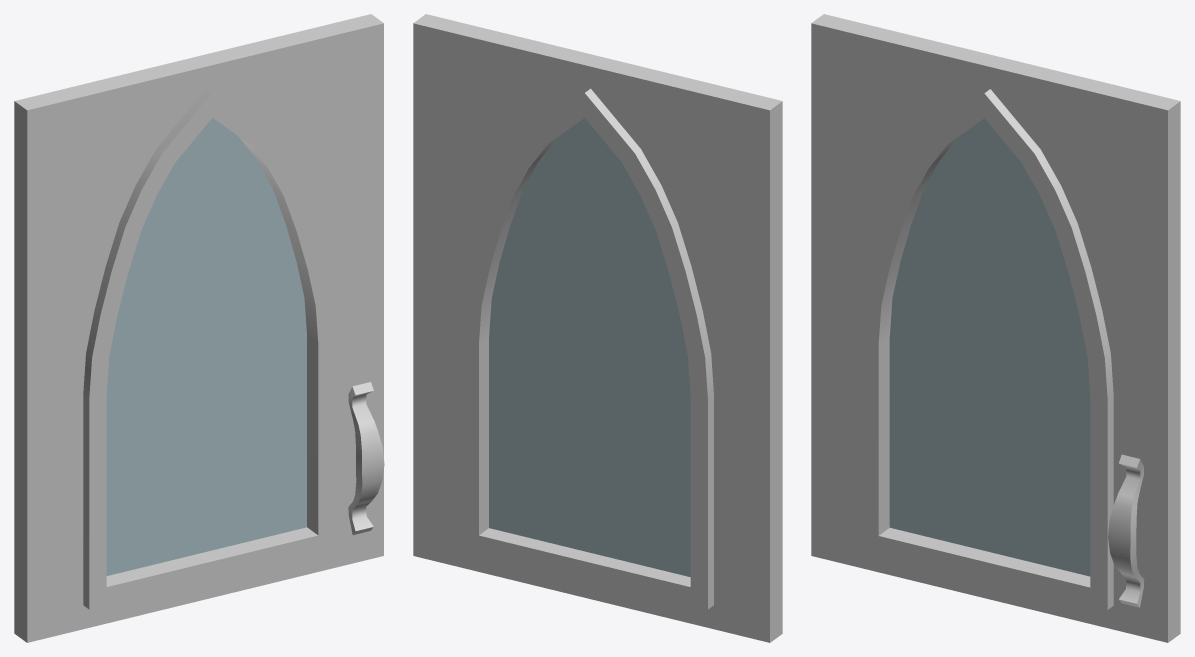
File: SM_Kitchen_07_Door_L.fbx
3 renders of one model, left to right at view 1: azimuth 30°, elevation 25°; view 2: azimuth 150°, elevation 25°; view 3: azimuth 330°, elevation 25°, orthographic.
Visible parts, largest first — view 1: SM_Kitchen_07_Door_L; view 2: SM_Kitchen_07_Door_L; view 3: SM_Kitchen_07_Door_L.
Boxes of the visible parts, x1,y1,x2,y2 form: SM_Kitchen_07_Door_L: [14, 14, 384, 642]; SM_Kitchen_07_Door_L: [413, 14, 782, 642]; SM_Kitchen_07_Door_L: [811, 14, 1180, 642].
Size of the model in its own units: 43.18 by 61.58 by 7.92.
